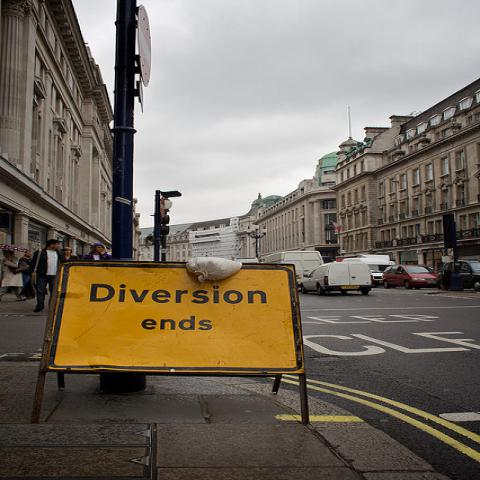car: (381, 264, 441, 289), (438, 260, 479, 294)
truck: (259, 252, 324, 290), (300, 262, 372, 295), (340, 255, 396, 282)
